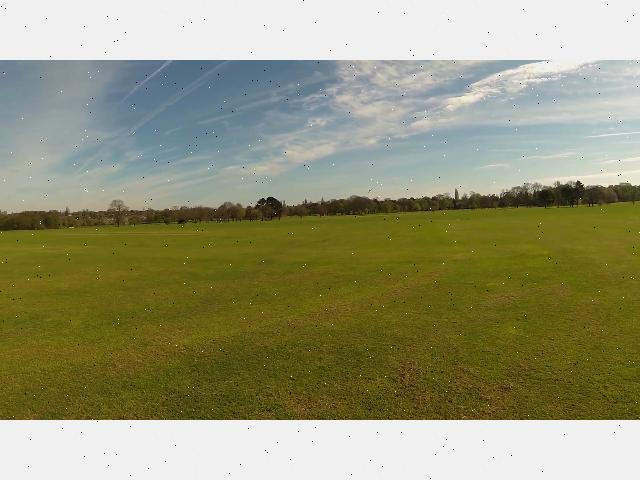Anti-Drone: (366, 188, 374, 194)
